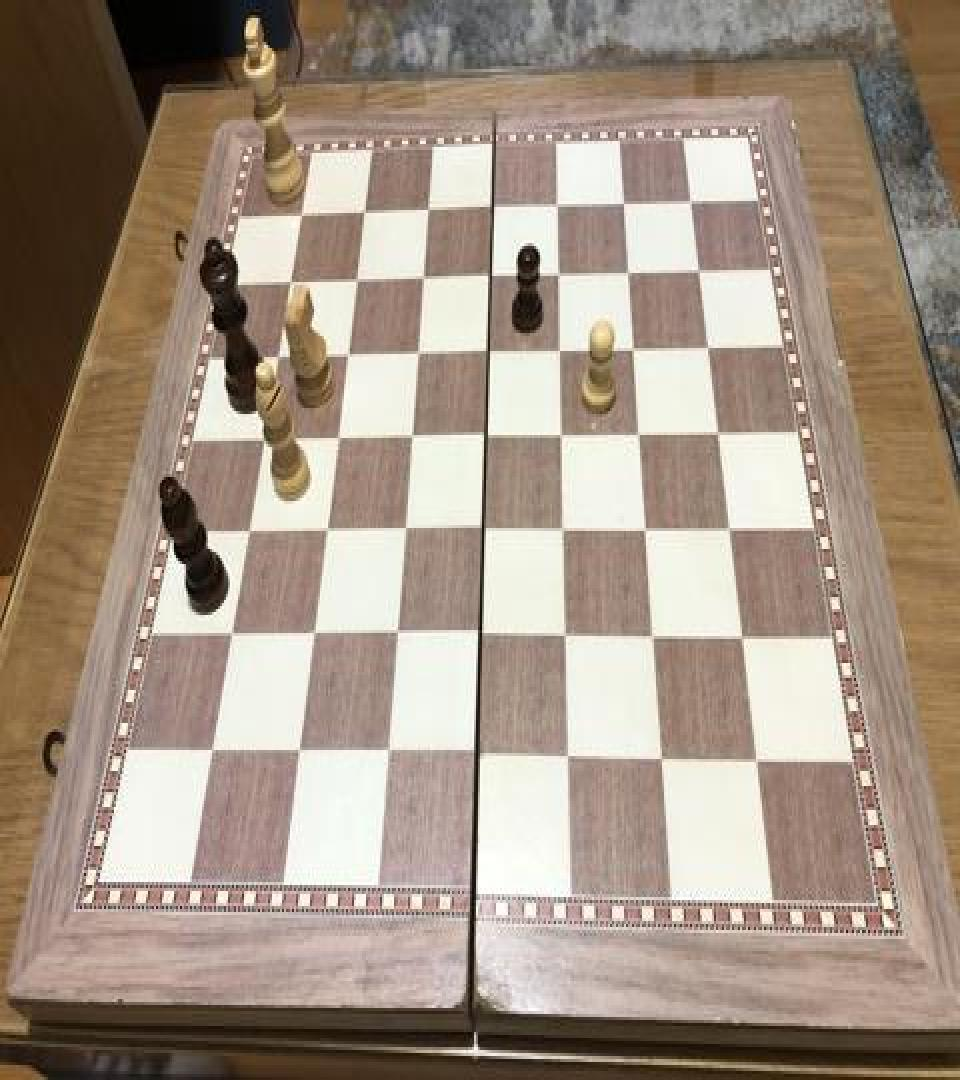xcorner: (717, 514, 741, 551), (633, 514, 657, 551), (551, 514, 575, 551), (470, 514, 494, 551), (390, 514, 414, 551), (312, 514, 336, 551), (234, 514, 258, 551), (730, 622, 754, 659), (217, 616, 241, 653), (649, 742, 673, 779), (198, 733, 222, 770), (679, 186, 703, 222), (545, 190, 569, 226), (479, 192, 503, 228), (415, 195, 439, 231), (351, 196, 375, 232), (287, 198, 311, 234), (687, 255, 711, 291), (616, 256, 640, 292), (477, 261, 501, 297), (409, 262, 433, 298), (342, 264, 366, 300), (276, 266, 300, 302), (696, 332, 720, 368), (621, 333, 645, 369), (548, 334, 572, 370), (475, 336, 499, 372), (404, 338, 428, 374), (333, 339, 357, 375), (264, 340, 288, 376), (706, 418, 730, 454), (627, 418, 651, 454), (549, 420, 573, 456), (473, 420, 497, 456), (397, 422, 421, 458), (323, 422, 347, 458), (250, 423, 274, 459), (640, 621, 664, 657), (553, 620, 577, 656), (467, 620, 491, 656), (382, 618, 406, 654), (299, 618, 323, 654), (744, 746, 768, 782), (555, 741, 579, 777), (463, 738, 487, 774), (373, 736, 397, 772), (284, 735, 308, 771), (612, 188, 636, 223), (546, 260, 570, 295)
